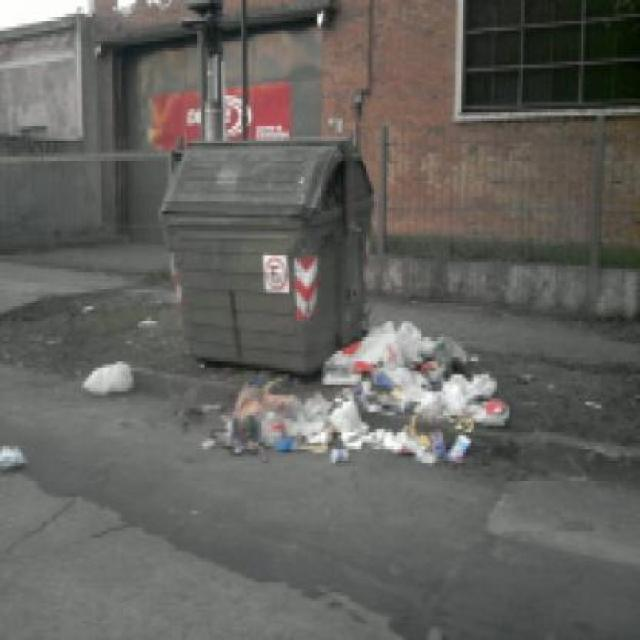garbage: (320, 320, 509, 453), (196, 368, 373, 480), (74, 351, 153, 406)
